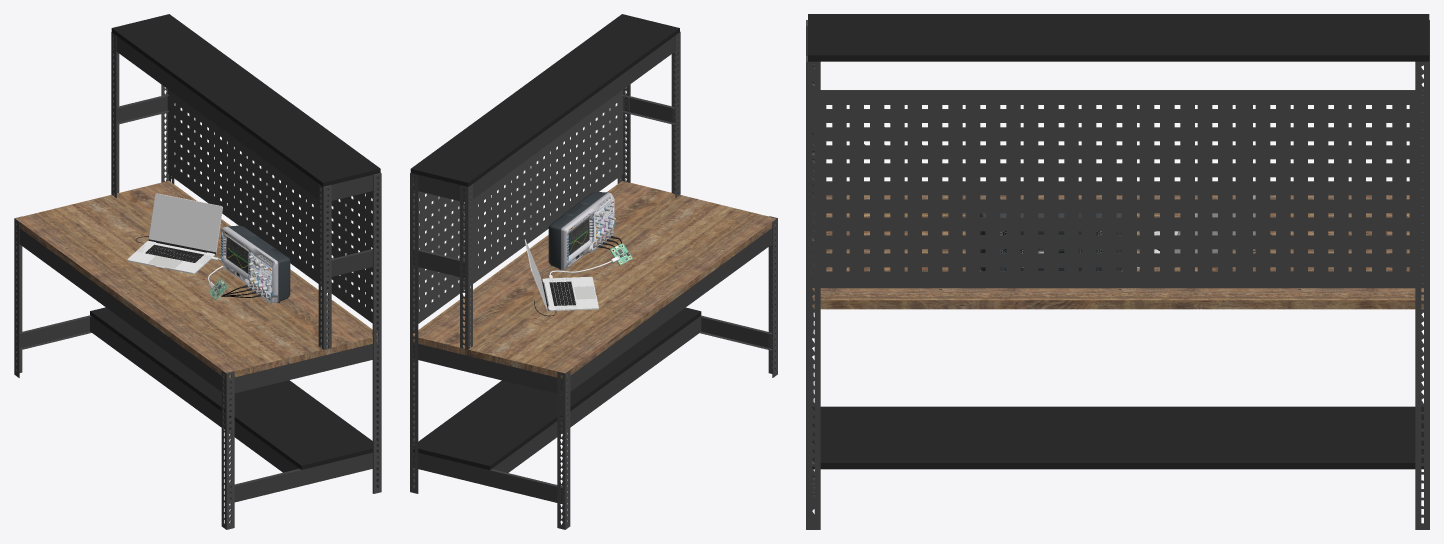
Rendered from PortfolioScene.glb.
3 renders of one model, left to right at view 1: azimuth 30°, elevation 25°; view 2: azimuth 150°, elevation 25°; view 3: azimuth 270°, elevation 25°, orthographic. The views are drawn at different scales.
Visible parts, largest first — view 1: Bench, Computer, Oscilloscope, Screen; view 2: Bench, Oscilloscope, Computer, Screen; view 3: Bench, Oscilloscope.
Boxes of the visible parts, left/top/right/bottom form: Bench: left=14, top=14, right=381, bottom=529; Computer: left=127, top=193, right=222, bottom=273; Oscilloscope: left=221, top=225, right=290, bottom=302; Screen: left=221, top=226, right=278, bottom=303; Bench: left=410, top=14, right=777, bottom=529; Oscilloscope: left=548, top=192, right=618, bottom=269; Computer: left=524, top=239, right=598, bottom=316; Screen: left=561, top=192, right=614, bottom=270; Bench: left=806, top=14, right=1429, bottom=529; Oscilloscope: left=980, top=213, right=1122, bottom=271.
Size of the model in its own units: 0.7795 by 1.55 by 1.85.
75 materials, 19 textured.
